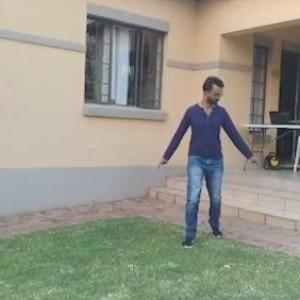land: (137, 60, 261, 262)
